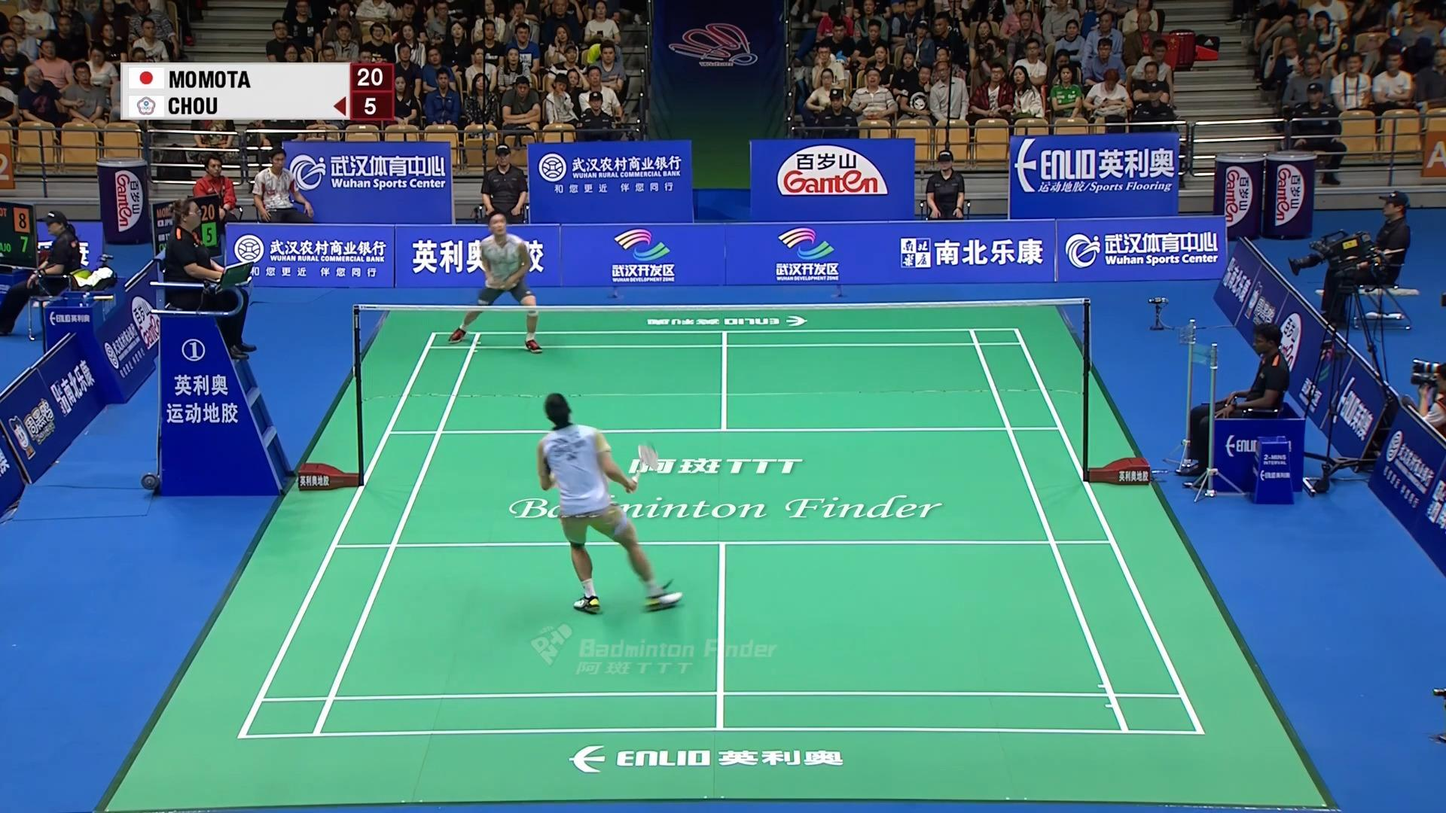player: (537, 391, 682, 614), (450, 208, 542, 353)
